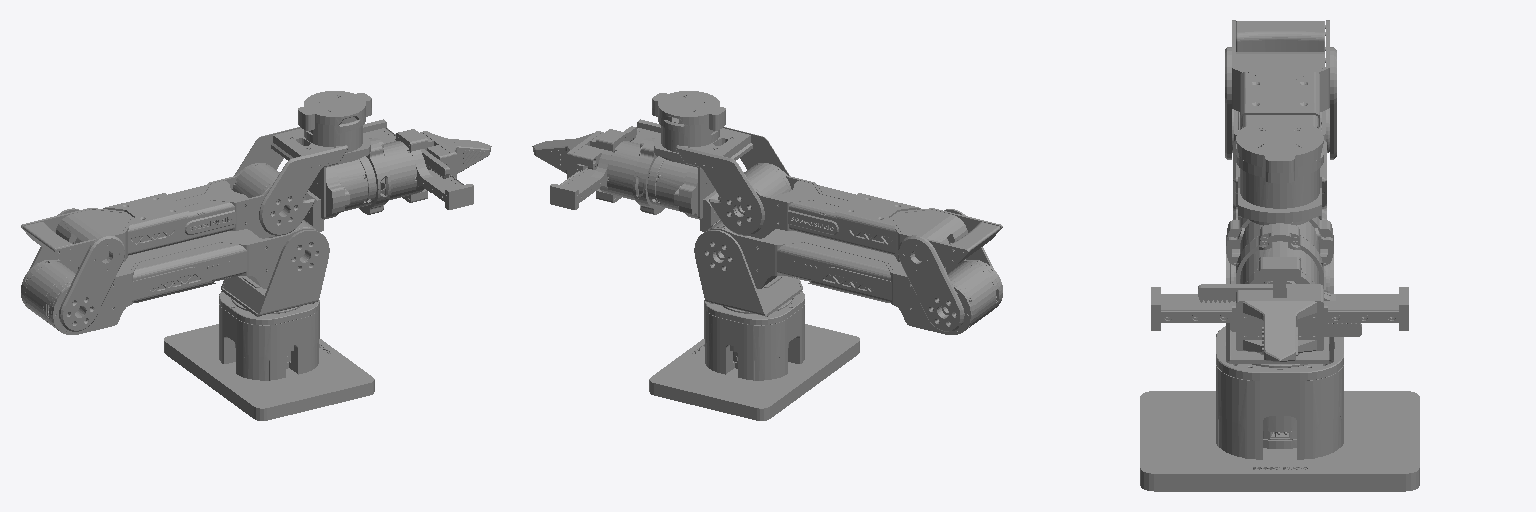
URDF robot description (reBot_B601_DM):
<?xml version="1.0" encoding="utf-8"?>
<robot name="reBot_B601_DM">

  <!-- ================= BASE LINK ================= -->
  <link name="base_link">
    <inertial>
      <origin xyz="-2.70523135620682E-06 -7.70134319499228E-06 0.0289808350909289" rpy="0 0 0" />
      <mass value="0.79874480798149" />
      <inertia ixx="0.00167922927706365" ixy="-1.88775164237296E-09" ixz="1.97136369561046E-08" iyy="0.00100413042930826" iyz="-2.1823444305057E-07" izz="0.00243992061460991" />
    </inertial>
    <visual>
      <origin xyz="0 0 0" rpy="0 0 0" />
      <geometry><mesh filename="package://reBot_B601_DM/meshes/pla0_black.STL" /></geometry>
      <material name=""><color rgba="0.627450980392157 0.627450980392157 0.627450980392157 1" /></material>
    </visual>
    <visual>
      <origin xyz="0 0 0" rpy="0 0 0" />
      <geometry><mesh filename="package://reBot_B601_DM/meshes/cnc0.STL" /></geometry>
      <material name=""><color rgba="0.627450980392157 0.627450980392157 0.627450980392157 1" /></material>
    </visual>
    <collision>
      <origin xyz="0 0 0" rpy="0 0 0" />
      <geometry><mesh filename="package://reBot_B601_DM/meshes/base_link.STL" /></geometry>
    </collision>
  </link>

  <!-- ================= JOINT 1 ================= -->
  <joint name="joint1" type="revolute">
    <origin xyz="-8.416E-05 0 0.08465" rpy="0 0 0" />
    <parent link="base_link" />
    <child link="link1" />
    <axis xyz="0 0 1" />
    <limit lower="-2.8" upper="2.8" effort="27" velocity="50" />
  </joint>

  <!-- ================= LINK 1 ================= -->
  <link name="link1">
    <inertial>
      <origin xyz="1.20584908205569E-05 -0.000522462700249251 0.0197721792915801" rpy="0 0 0" />
      <mass value="0.0840736498625263" />
      <inertia ixx="8.53930680558479E-05" ixy="-5.36083090566684E-11" ixz="-8.1878892265138E-06" iyy="5.08885968641724E-05" iyz="-1.61532065578219E-10" izz="8.03867731313707E-05" />
    </inertial>
    <visual>
      <origin xyz="0 0 0" rpy="0 0 0" />
      <geometry><mesh filename="package://reBot_B601_DM/meshes/cnc1.STL" /></geometry>
      <material name=""><color rgba="0.627450980392157 0.627450980392157 0.627450980392157 1" /></material>
    </visual>
    <visual>
      <origin xyz="0 0 0" rpy="0 0 0" />
      <geometry><mesh filename="package://reBot_B601_DM/meshes/pla1_black.STL" /></geometry>
      <material name=""><color rgba="0.627450980392157 0.627450980392157 0.627450980392157 1" /></material>
    </visual>
    <collision>
      <origin xyz="0 0 0" rpy="0 0 0" />
      <geometry><mesh filename="package://reBot_B601_DM/meshes/link1.STL" /></geometry>
    </collision>
  </link>

  <!-- ================= JOINT 2 ================= -->
  <joint name="joint2" type="revolute">
    <origin xyz="0.020084 0.031625 0.05555" rpy="-1.5708 0 0" />
    <parent link="link1" />
    <child link="link2" />
    <axis xyz="0 0 -1" />
    <limit lower="-3.14" upper="0" effort="27" velocity="50" />
  </joint>

  <!-- ================= LINK 2 ================= -->
  <link name="link2">
    <inertial>
      <origin xyz="-0.13224463371047 -0.00305031595315752 -0.0309299400248282" rpy="0 0 0" />
      <mass value="0.710394385134637" />
      <inertia ixx="0.00025002655459552" ixy="-1.60716279794484E-06" ixz="-2.51351488849151E-09" iyy="0.00186321981627926" iyz="-4.3654216031628E-07" izz="0.00186007710433815" />
    </inertial>
    <visual>
      <origin xyz="0 0 0" rpy="0 0 0" />
      <geometry><mesh filename="package://reBot_B601_DM/meshes/pla2_green.STL" /></geometry>
      <material name=""><color rgba="0.627450980392157 0.627450980392157 0.627450980392157 1" /></material>
    </visual>
    <visual>
      <origin xyz="0 0 0" rpy="0 0 0" />
      <geometry><mesh filename="package://reBot_B601_DM/meshes/pla2_black.STL" /></geometry>
      <material name=""><color rgba="0.627450980392157 0.627450980392157 0.627450980392157 1" /></material>
    </visual>
    <visual>
      <origin xyz="0 0 0" rpy="0 0 0" />
      <geometry><mesh filename="package://reBot_B601_DM/meshes/motor2.STL" /></geometry>
      <material name=""><color rgba="0.627450980392157 0.627450980392157 0.627450980392157 1" /></material>
    </visual>
    <visual>
      <origin xyz="0 0 0" rpy="0 0 0" />
      <geometry><mesh filename="package://reBot_B601_DM/meshes/cnc2.STL" /></geometry>
      <material name=""><color rgba="0.627450980392157 0.627450980392157 0.627450980392157 1" /></material>
    </visual>
    <collision>
      <origin xyz="0 0 0" rpy="0 0 0" />
      <geometry><mesh filename="package://reBot_B601_DM/meshes/link2.STL" /></geometry>
    </collision>
  </link>

  <!-- ================= JOINT 3 ================= -->
  <joint name="joint3" type="revolute">
    <origin xyz="-0.264 0 0" rpy="0 0 0" />
    <parent link="link2" />
    <child link="link3" />
    <axis xyz="0 0 1" />
    <limit lower="-3.14" upper="0" effort="27" velocity="50" />
  </joint>

  <!-- ================= LINK 3 ================= -->
  <link name="link3">
    <inertial>
      <origin xyz="0.121507513227854 -0.0537568110785864 -0.0310861781014441" rpy="0 0 0" />
      <mass value="0.524941641463797" />
      <inertia ixx="0.000160157099217385" ixy="1.61604034679669E-05" ixz="3.33082723975693E-06" iyy="0.0012490558993018" iyz="-2.96940941279738E-07" izz="0.00125568117526387" />
    </inertial>
    <visual>
      <origin xyz="0 0 0" rpy="0 0 0" />
      <geometry><mesh filename="package://reBot_B601_DM/meshes/cnc3.STL" /></geometry>
      <material name=""><color rgba="0.627450980392157 0.627450980392157 0.627450980392157 1" /></material>
    </visual>
    <visual>
      <origin xyz="0 0 0" rpy="0 0 0" />
      <geometry><mesh filename="package://reBot_B601_DM/meshes/pla3_black.STL" /></geometry>
      <material name=""><color rgba="0.627450980392157 0.627450980392157 0.627450980392157 1" /></material>
    </visual>
    <visual>
      <origin xyz="0 0 0" rpy="0 0 0" />
      <geometry><mesh filename="package://reBot_B601_DM/meshes/pla3_green.STL" /></geometry>
      <material name=""><color rgba="0.627450980392157 0.627450980392157 0.627450980392157 1" /></material>
    </visual>
    <visual>
      <origin xyz="0 0 0" rpy="0 0 0" />
      <geometry><mesh filename="package://reBot_B601_DM/meshes/motor3.STL" /></geometry>
      <material name=""><color rgba="0.627450980392157 0.627450980392157 0.627450980392157 1" /></material>
    </visual>
    <collision>
      <origin xyz="0 0 0" rpy="0 0 0" />
      <geometry><mesh filename="package://reBot_B601_DM/meshes/link3.STL" /></geometry>
    </collision>
  </link>

  <!-- ================= JOINT 4 ================= -->
  <joint name="joint4" type="revolute">
    <origin xyz="0.2426 -0.054 -0.001625" rpy="0 0 0" />
    <parent link="link3" />
    <child link="link4" />
    <axis xyz="0 0 1" />
    <limit lower="-1.87" upper="1.57" effort="7" velocity="200" />
  </joint>

  <!-- ================= LINK 4 ================= -->
  <link name="link4">
    <inertial>
      <origin xyz="0.061238184630837 -0.0515229512575593 -0.0303340352955361" rpy="0 0 0" />
      <mass value="0.191139210958177" />
      <inertia ixx="7.18184289326935E-05" ixy="1.12301944953989E-05" ixz="5.19641435321906E-08" iyy="0.000112900067587289" iyz="-2.21782679810789E-07" izz="0.000101141504875367" />
    </inertial>
    <visual>
      <origin xyz="0 0 0" rpy="0 0 0" />
      <geometry><mesh filename="package://reBot_B601_DM/meshes/cnc4.STL" /></geometry>
      <material name=""><color rgba="0.627450980392157 0.627450980392157 0.627450980392157 1" /></material>
    </visual>
    <visual>
      <origin xyz="0 0 0" rpy="0 0 0" />
      <geometry><mesh filename="package://reBot_B601_DM/meshes/pla4_black.STL" /></geometry>
      <material name=""><color rgba="0.627450980392157 0.627450980392157 0.627450980392157 1" /></material>
    </visual>
    <visual>
      <origin xyz="0 0 0" rpy="0 0 0" />
      <geometry><mesh filename="package://reBot_B601_DM/meshes/motor4.STL" /></geometry>
      <material name=""><color rgba="0.627450980392157 0.627450980392157 0.627450980392157 1" /></material>
    </visual>
    <collision>
      <origin xyz="0 0 0" rpy="0 0 0" />
      <geometry><mesh filename="package://reBot_B601_DM/meshes/link4.STL" /></geometry>
    </collision>
  </link>

  <!-- ================= JOINT 5 ================= -->
  <joint name="joint5" type="revolute">
    <origin xyz="0.078308 -0.0375 -0.03" rpy="-1.5708 0 0" />
    <parent link="link4" />
    <child link="link5" />
    <axis xyz="0 0 1" />
    <limit lower="-1.57" upper="1.57" effort="7" velocity="200" />
  </joint>

  <!-- ================= LINK 5 ================= -->
  <link name="link5">
    <inertial>
      <origin xyz="-0.00504933073079916 1.74603032631183E-06 0.0387866303386367" rpy="0 0 0" />
      <mass value="0.150004102098704" />
      <inertia ixx="6.79196566468738E-05" ixy="7.20236787349709E-10" ixz="2.82554291060982E-06" iyy="5.17186991458655E-05" iyz="-9.87947761675261E-09" izz="5.43656904485735E-05" />
    </inertial>
    <visual>
      <origin xyz="0 0 0" rpy="0 0 0" />
      <geometry><mesh filename="package://reBot_B601_DM/meshes/cnc5.STL" /></geometry>
      <material name=""><color rgba="0.627450980392157 0.627450980392157 0.627450980392157 1" /></material>
    </visual>
    <visual>
      <origin xyz="0 0 0" rpy="0 0 0" />
      <geometry><mesh filename="package://reBot_B601_DM/meshes/pla5_black.STL" /></geometry>
      <material name=""><color rgba="0.627450980392157 0.627450980392157 0.627450980392157 1" /></material>
    </visual>
    <visual>
      <origin xyz="0 0 0" rpy="0 0 0" />
      <geometry><mesh filename="package://reBot_B601_DM/meshes/pla5_white.STL" /></geometry>
      <material name=""><color rgba="0.627450980392157 0.627450980392157 0.627450980392157 1" /></material>
    </visual>
    <visual>
      <origin xyz="0 0 0" rpy="0 0 0" />
      <geometry><mesh filename="package://reBot_B601_DM/meshes/motor5.STL" /></geometry>
      <material name=""><color rgba="0.627450980392157 0.627450980392157 0.627450980392157 1" /></material>
    </visual>
    <collision>
      <origin xyz="0 0 0" rpy="0 0 0" />
      <geometry><mesh filename="package://reBot_B601_DM/meshes/link5.STL" /></geometry>
    </collision>
  </link>

  <!-- ================= JOINT 6 ================= -->
  <joint name="joint6" type="revolute">
    <origin xyz="0.023692 0 0.04" rpy="0 1.5708 0" />
    <parent link="link5" />
    <child link="link6" />
    <axis xyz="0 0 1" />
    <limit lower="-3.14" upper="3.14" effort="7" velocity="200" />
  </joint>

  <!-- ================= LINK 6 ================= -->
  <link name="link6">
    <inertial>
      <origin xyz="-1.76034430144079E-05 7.61449749704647E-09 0.00431722560895043" rpy="0 0 0" />
      <mass value="0.0187271664583674" />
      <inertia ixx="4.42801172036323E-06" ixy="-1.26927907354552E-13" ixz="1.52049684129752E-10" iyy="4.37712746743999E-06" iyz="2.59076551968407E-13" izz="8.55249688102954E-06" />
    </inertial>
    <visual>
      <origin xyz="0 0 0" rpy="0 0 0" />
      <geometry><mesh filename="package://reBot_B601_DM/meshes/link6.STL" /></geometry>
      <material name=""><color rgba="0.627450980392157 0.627450980392157 0.627450980392157 1" /></material>
    </visual>
    <collision>
      <origin xyz="0 0 0" rpy="0 0 0" />
      <geometry><mesh filename="package://reBot_B601_DM/meshes/link6.STL" /></geometry>
    </collision>
  </link>
  
<!-- ================= GRIPPER SECTION  ================= -->

  <joint name="gripper_joint" type="fixed">
    <origin xyz="0 0 0.15971" rpy="3.1416 -1.5708 0" />
    <parent link="link6" />
    <child link="gripper_link" />
    <axis xyz="0 0 0" />
  </joint>

  <!-- gripper_link: pla7_black, motor7, cnc7, pla7_green 全部 origin 0 0 0 -->
  <link name="gripper_link">
    <inertial>
      <origin xyz="-0.114004561318349 7.30809317876245E-05 -8.09823710312685E-08" rpy="0 0 0" />
      <mass value="0.181800159130401" />
      <inertia ixx="0.000232385828320558" ixy="2.7758402808361E-07" ixz="6.04874123741653E-10" iyy="5.85085867367051E-05" iyz="1.15493362272035E-08" izz="0.000205213535847192" />
    </inertial>
    <visual>
      <origin xyz="0 0 0" rpy="0 0 0" />
      <geometry><mesh filename="package://reBot_B601_DM/meshes/pla7_black.STL" /></geometry>
      <material name=""><color rgba="0.627450980392157 0.627450980392157 0.627450980392157 1" /></material>
    </visual>
    <visual>
      <origin xyz="0 0 0" rpy="0 0 0" />
      <geometry><mesh filename="package://reBot_B601_DM/meshes/motor7.STL" /></geometry>
      <material name=""><color rgba="0.627450980392157 0.627450980392157 0.627450980392157 1" /></material>
    </visual>
    <visual>
      <origin xyz="0 0 0" rpy="0 0 0" />
      <geometry><mesh filename="package://reBot_B601_DM/meshes/cnc7.STL" /></geometry>
      <material name=""><color rgba="0.627450980392157 0.627450980392157 0.627450980392157 1" /></material>
    </visual>
    <visual>
      <origin xyz="0 0 0" rpy="0 0 0" />
      <geometry><mesh filename="package://reBot_B601_DM/meshes/pla7_green.STL" /></geometry>
      <material name=""><color rgba="0.627450980392157 0.627450980392157 0.627450980392157 1" /></material>
    </visual>
    <collision>
      <origin xyz="0 0 0" rpy="0 0 0" />
      <geometry><mesh filename="package://reBot_B601_DM/meshes/gripper_link.STL" /></geometry>
    </collision>
  </link>

  <!-- ===== Left Finger: Lpla, Lcnc 全部 origin 0 0 0 ===== -->
  <joint name="gripper_joint1" type="prismatic">
    <origin xyz="-0.042091 2.7531E-05 -1.3031E-05" rpy="0 0 -1.5708" />
    <parent link="gripper_link" />
    <child link="gripper_left" />
    <axis xyz="1 0 0" />
    <limit lower="0" upper="0.0715" effort="100" velocity="15" />
  </joint>

  <link name="gripper_left">
    <inertial>
      <origin xyz="0.00937154605945142 -0.0183514409006279 -0.00213050813223617" rpy="0 0 0" />
      <mass value="0.0423278952416158" />
      <inertia ixx="9.68819007445228E-06" ixy="1.14547785891207E-06" ixz="-1.82410432419993E-08" iyy="9.7195653452821E-06" iyz="-1.2073761818017E-07" izz="1.13638462227589E-05" />
    </inertial>
    <visual>
      <origin xyz="0 0 0" rpy="0 0 0" />
      <geometry><mesh filename="package://reBot_B601_DM/meshes/Lpla.STL" /></geometry>
      <material name=""><color rgba="0.627450980392157 0.627450980392157 0.627450980392157 1" /></material>
    </visual>
    <visual>
      <origin xyz="0 0 0" rpy="0 0 0" />
      <geometry><mesh filename="package://reBot_B601_DM/meshes/Lcnc.STL" /></geometry>
      <material name=""><color rgba="0.627450980392157 0.627450980392157 0.627450980392157 1" /></material>
    </visual>
    <collision>
      <origin xyz="0 0 0" rpy="0 0 0" />
      <geometry><mesh filename="package://reBot_B601_DM/meshes/gripper_left.STL" /></geometry>
    </collision>
  </link>

  <!-- ===== Right Finger: Rpla, Rcnc 全部 origin 0 0 0 ===== -->
  <joint name="gripper_joint2" type="prismatic">
    <origin xyz="-0.042091 -2.7531E-05 1.3031E-05" rpy="0 0 1.5708" />
    <parent link="gripper_link" />
    <child link="gripper_right" />
    <axis xyz="1 0 0" />
    <limit lower="0" upper="0.0715" effort="100" velocity="15" />
  </joint>

  <link name="gripper_right">
    <inertial>
      <origin xyz="0.00937154599936671 0.0183514410059713 0.00213050822993754" rpy="0 0 0" />
      <mass value="0.0423278949561274" />
      <inertia ixx="9.68819002375832E-06" ixy="-1.14547786360874E-06" ixz="1.82410118281856E-08" iyy="9.7195652747221E-06" iyz="-1.20737613592695E-07" izz="1.13638461944347E-05" />
    </inertial>
    <visual>
      <origin xyz="0 0 0" rpy="0 0 0" />
      <geometry><mesh filename="package://reBot_B601_DM/meshes/Rpla.STL" /></geometry>
      <material name=""><color rgba="0.627450980392157 0.627450980392157 0.627450980392157 1" /></material>
    </visual>
    <visual>
      <origin xyz="0 0 0" rpy="0 0 0" />
      <geometry><mesh filename="package://reBot_B601_DM/meshes/Rcnc.STL" /></geometry>
      <material name=""><color rgba="0.627450980392157 0.627450980392157 0.627450980392157 1" /></material>
    </visual>
    <collision>
      <origin xyz="0 0 0" rpy="0 0 0" />
      <geometry><mesh filename="package://reBot_B601_DM/meshes/gripper_right.STL" /></geometry>
    </collision>
  </link>

</robot>

--- Facts derived from the render (not from the file) ---
Views: 3 orthographic renders of the robot side by side, from view 1: azimuth 30°, elevation 25°; view 2: azimuth 150°, elevation 25°; view 3: azimuth 270°, elevation 25°.
Model reBot_B601_DM with 10 links and 9 joints (6 revolute, 2 prismatic, 1 fixed), rooted at base_link, posed every joint at zero.
Links seen in each view (by area): view 1: link3, base_link, link2, link4, gripper_link, link1, link5, gripper_left, gripper_right; view 2: link3, base_link, link2, link4, gripper_link, link1, link5, gripper_right; view 3: base_link, link3, link4, gripper_link, gripper_right, gripper_left, link5, link1.
Boxes of the visible links, bbox=[...] form: link3: bbox=[21, 163, 305, 331]; base_link: bbox=[164, 291, 374, 420]; link2: bbox=[21, 220, 318, 334]; link4: bbox=[234, 91, 371, 235]; gripper_link: bbox=[359, 119, 473, 214]; link1: bbox=[221, 230, 329, 316]; link5: bbox=[304, 157, 367, 231]; gripper_left: bbox=[424, 141, 490, 192]; gripper_right: bbox=[420, 131, 491, 178]; link3: bbox=[718, 163, 1002, 331]; base_link: bbox=[649, 291, 859, 420]; link2: bbox=[705, 220, 1002, 334]; link4: bbox=[652, 91, 789, 235]; gripper_link: bbox=[550, 119, 664, 214]; link1: bbox=[694, 230, 802, 316]; link5: bbox=[656, 157, 719, 231]; gripper_right: bbox=[533, 126, 636, 178]; base_link: bbox=[1140, 326, 1419, 491]; link3: bbox=[1225, 20, 1336, 217]; link4: bbox=[1233, 115, 1326, 222]; gripper_link: bbox=[1151, 223, 1408, 354]; gripper_right: bbox=[1198, 284, 1327, 361]; gripper_left: bbox=[1232, 290, 1361, 361]; link5: bbox=[1226, 217, 1333, 265]; link1: bbox=[1226, 254, 1333, 367].
Size in the robot's own frame: 0.5328 by 0.2 by 0.2822 metres.
28 mesh visuals loaded from 28 distinct referenced files (28 binary STL).
